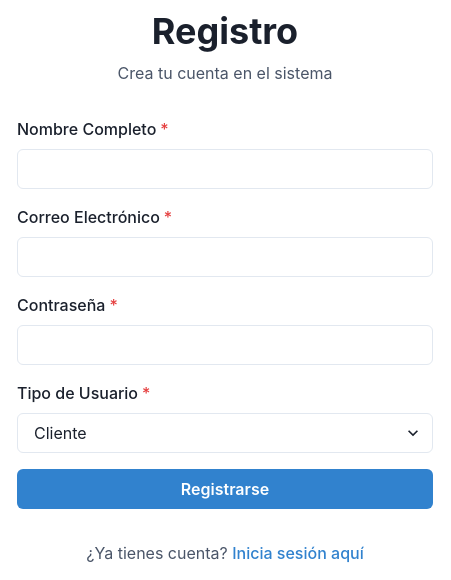
Test: RegisterPage › should disable form inputs while loading
In the field labelled "Nombre Completo*": (225, 169) [17,149,433,189], type "Test User"
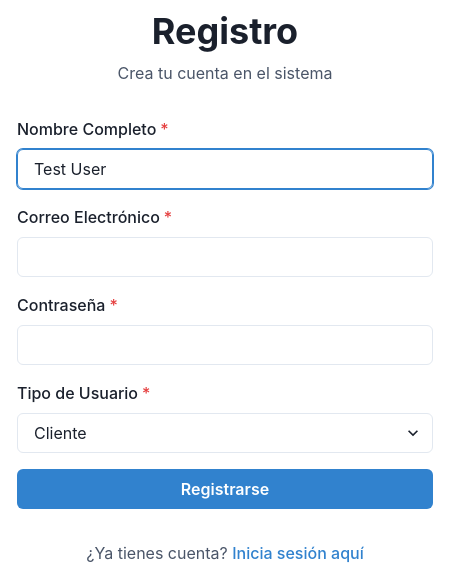
In the field labelled "Correo Electrónico*": (225, 257) [17,237,433,277], type "test@example.com"
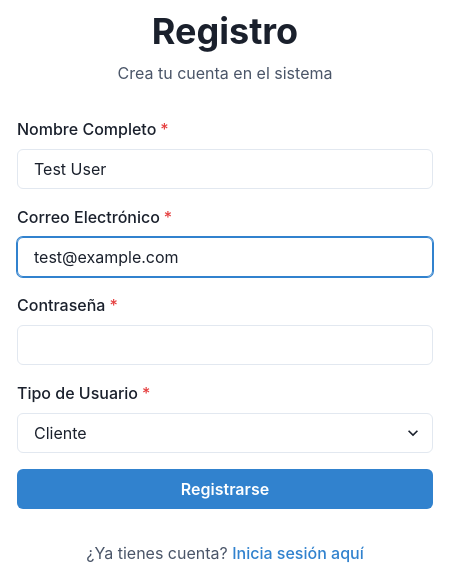
In the password field labelled "Contraseña*": (225, 345) [17,325,433,365], type "password123"
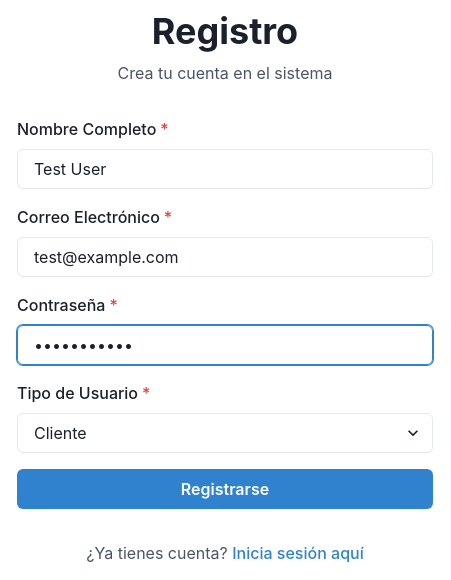
Click the button "Registrarse": (225, 489) [17,469,433,509]
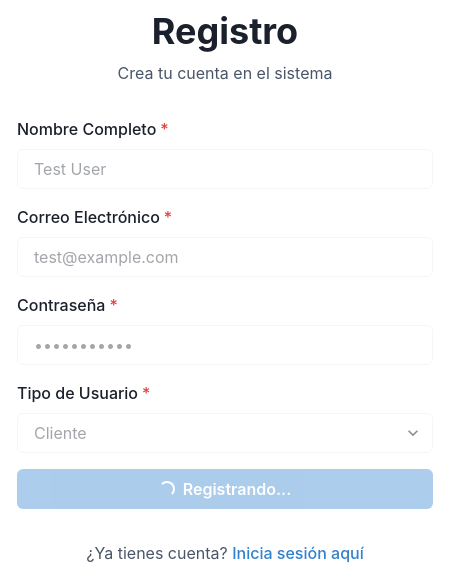
Expected: the field labelled "Nombre Completo*" is disabled, [17,149,433,189]
Expected: the field labelled "Correo Electrónico*" is disabled, [17,237,433,277]
Expected: the password field labelled "Contraseña*" is disabled, [17,325,433,365]
